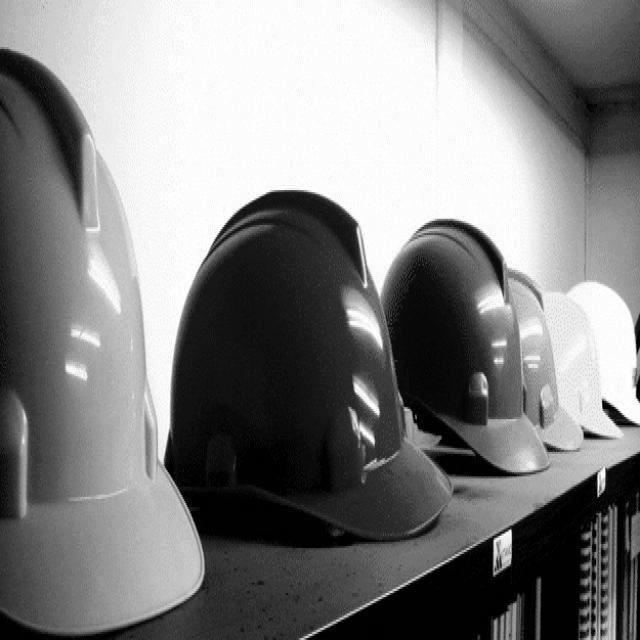construction helmet: (0, 53, 206, 638), (163, 190, 454, 542), (380, 219, 549, 478), (509, 270, 585, 452), (543, 290, 623, 440), (566, 280, 640, 427)
